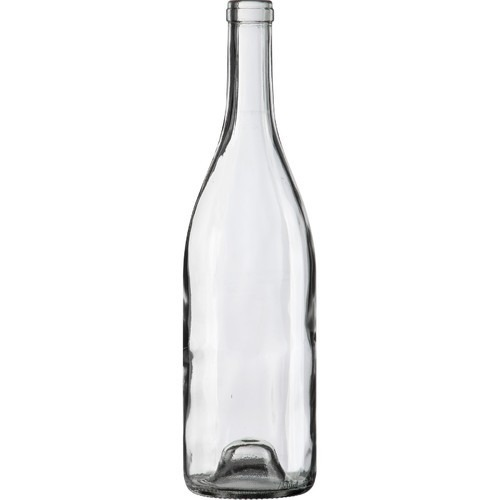container: (174, 1, 343, 500)
